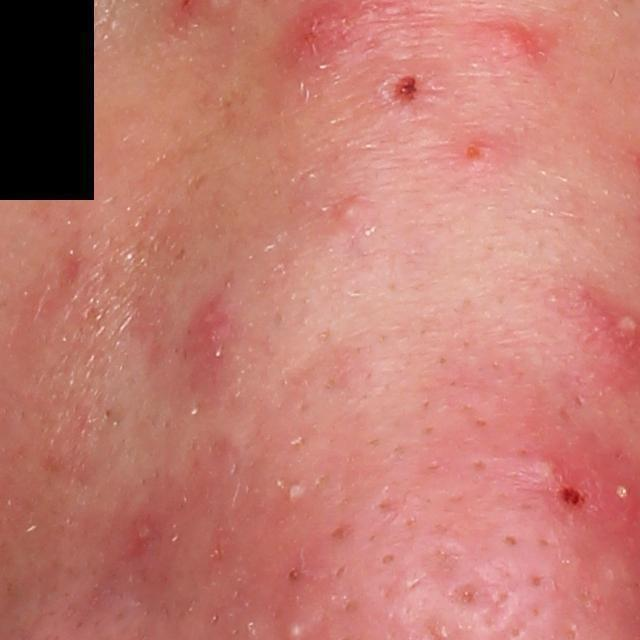comedo: (333, 195, 367, 230), (283, 564, 303, 582), (379, 549, 398, 567)
papule: (516, 443, 576, 497), (376, 68, 439, 111), (550, 481, 600, 525), (180, 302, 227, 347), (492, 20, 532, 59), (457, 136, 498, 168)
pustule: (279, 476, 308, 507)
